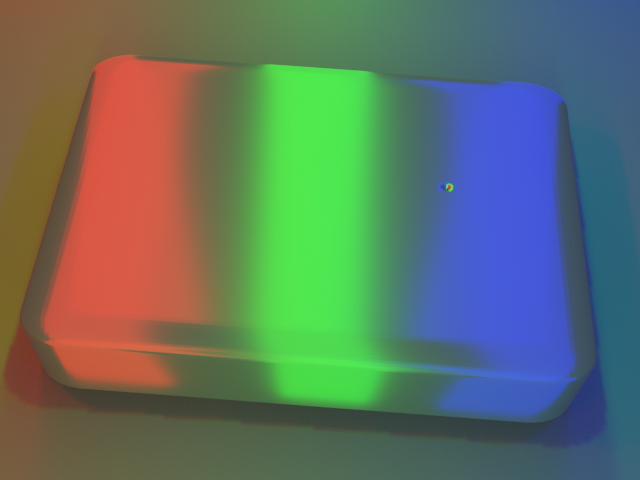dent: (442, 167, 477, 208)
